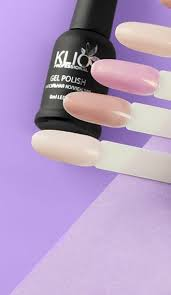nail: (61, 87, 130, 130), (30, 129, 100, 168), (89, 58, 158, 96), (114, 19, 171, 57)
